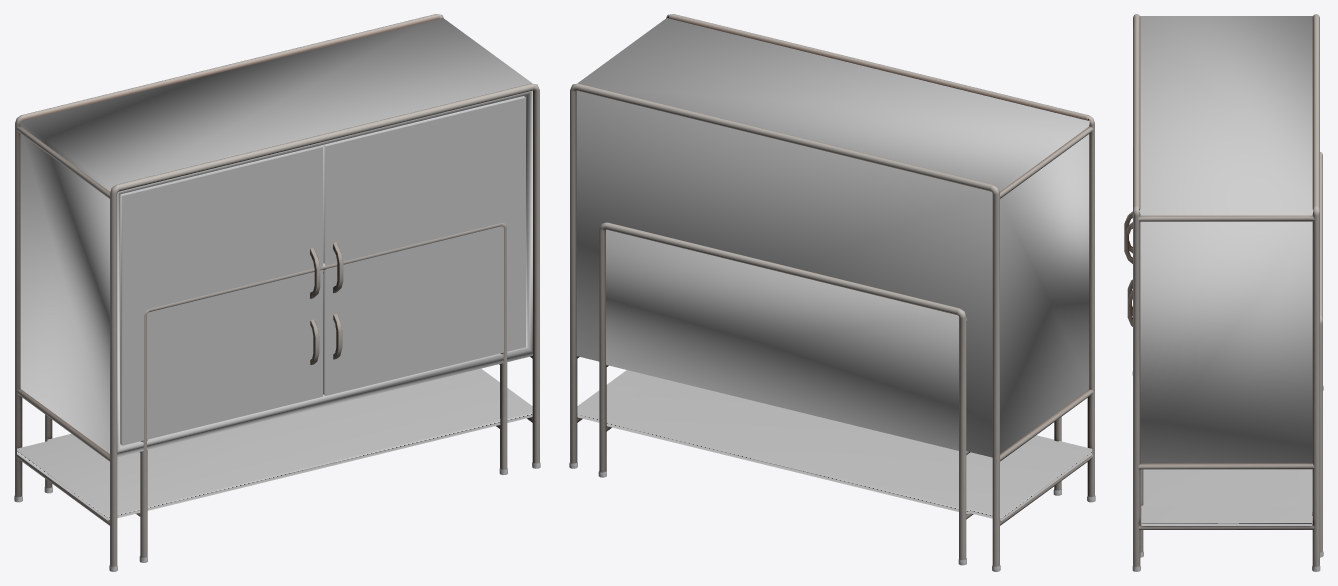
Rendered from bueroschraenke.fbx.
3 renders of one model, left to right at view 1: azimuth 30°, elevation 25°; view 2: azimuth 150°, elevation 25°; view 3: azimuth 270°, elevation 25°, orthographic. The views are drawn at different scales.
Visible parts, largest first — view 1: Mesh, Mesh_ncl1_1; view 2: Mesh, Mesh_ncl1_1; view 3: Mesh, Mesh_ncl1_1.
Part boxes in pixels (bbox=[...]): Mesh: bbox=[14, 14, 540, 571]; Mesh_ncl1_1: bbox=[44, 223, 507, 562]; Mesh: bbox=[569, 14, 1095, 571]; Mesh_ncl1_1: bbox=[598, 222, 1061, 565]; Mesh: bbox=[1124, 14, 1320, 571]; Mesh_ncl1_1: bbox=[1127, 152, 1323, 557].
Size of the model in its own units: 113 by 96.66 by 48.07.
